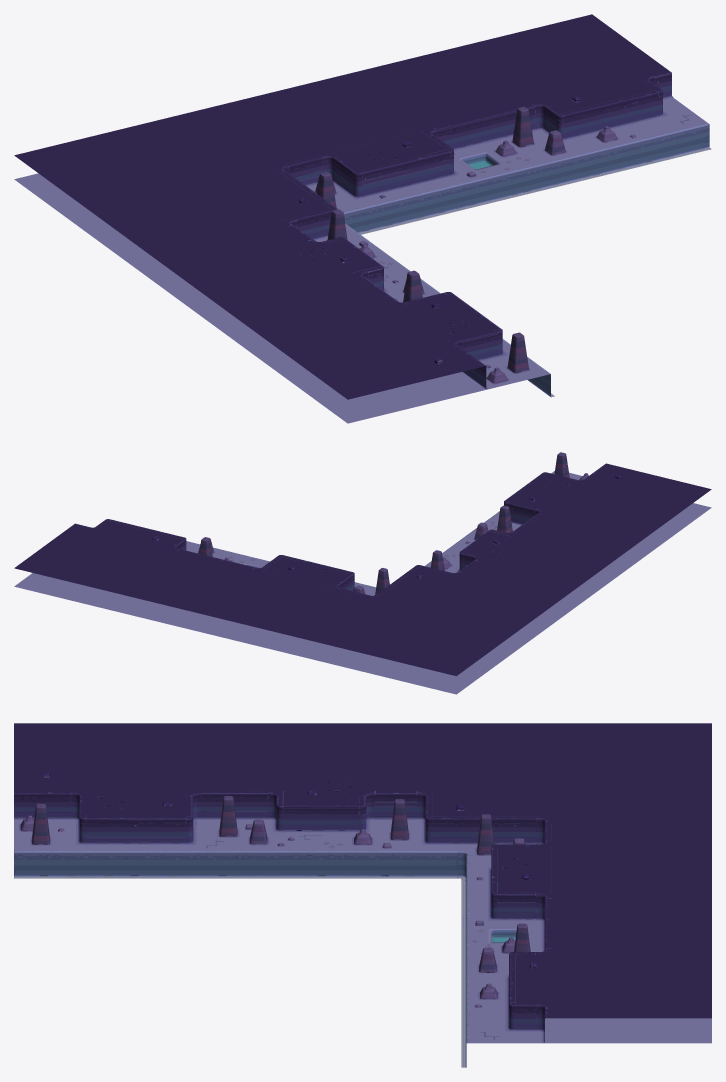
The model's file is C_cave1_out_RD.fbx.
3 renders of one model, top to bottom at view 1: azimuth 30°, elevation 25°; view 2: azimuth 150°, elevation 25°; view 3: azimuth 270°, elevation 25°, orthographic. The views are drawn at different scales.
Visible parts, largest first — view 1: C_cave1_out_RD.001; view 2: C_cave1_out_RD.001; view 3: C_cave1_out_RD.001.
Part boxes in pixels (x1,y1,x2,y2): C_cave1_out_RD.001: (14, 14, 711, 423); C_cave1_out_RD.001: (14, 452, 711, 694); C_cave1_out_RD.001: (14, 723, 711, 1067).
Size of the model in its own units: 117 by 11.26 by 117.
Materials: 1 (1 with a texture image).
